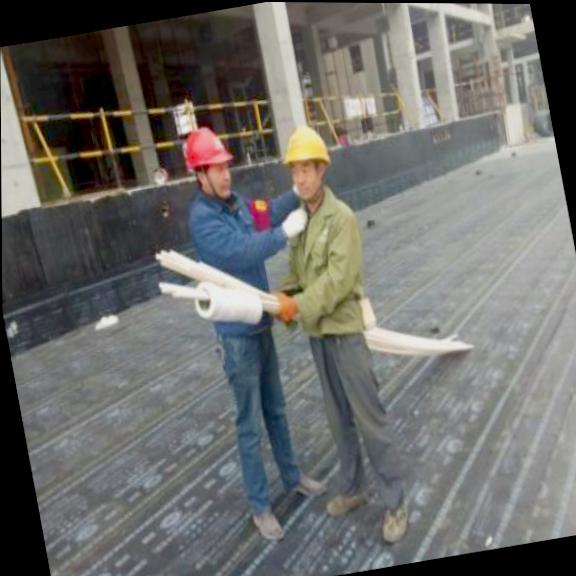no_safety_vest: (177, 181, 287, 358), (269, 184, 382, 346)
